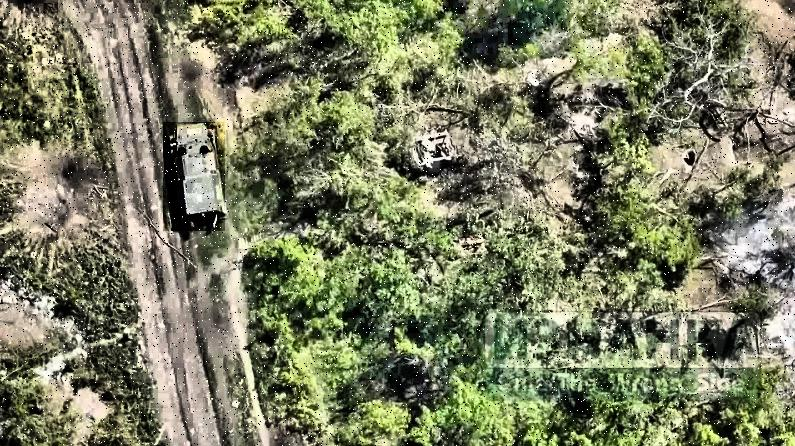military-vehicle: (164, 122, 226, 231)
